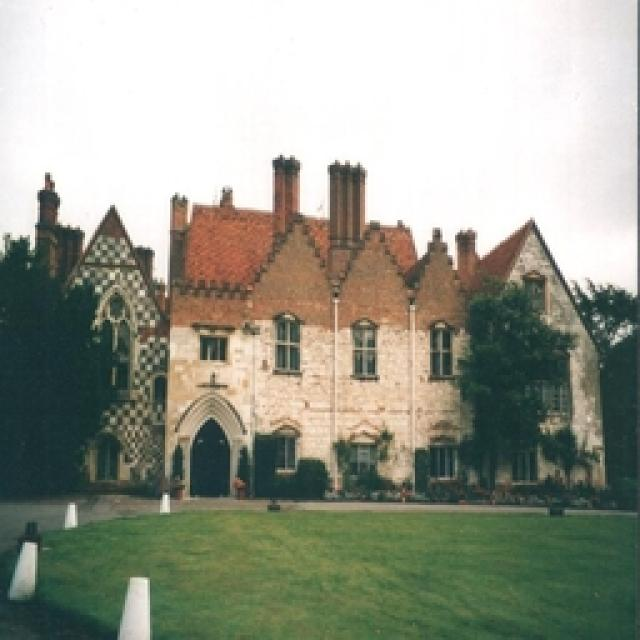Abbey: (85, 251, 171, 487)
